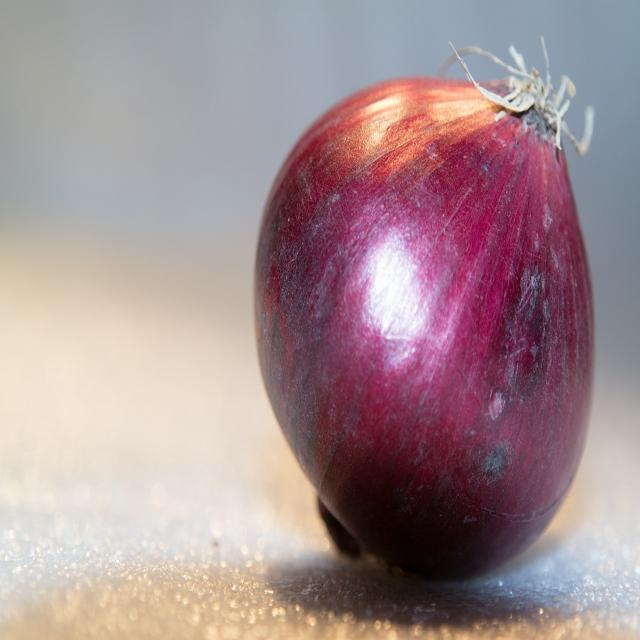onion: (252, 60, 598, 580)
